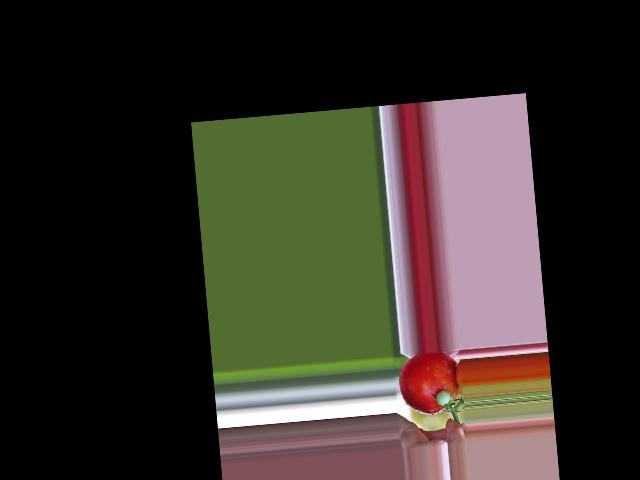tomato: (397, 348, 461, 417)
